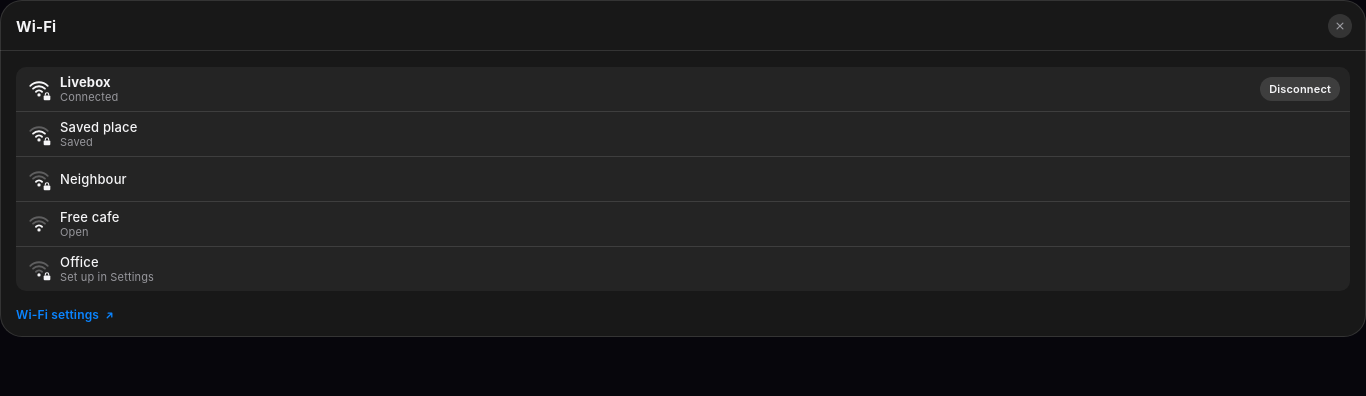
Scenario: a new secured one asks for its password in the row
What coordinates should you click on to do the following:
click the button "Neighbour"
I would click on:
 (93, 179)
Its box is [16, 157, 1350, 201].
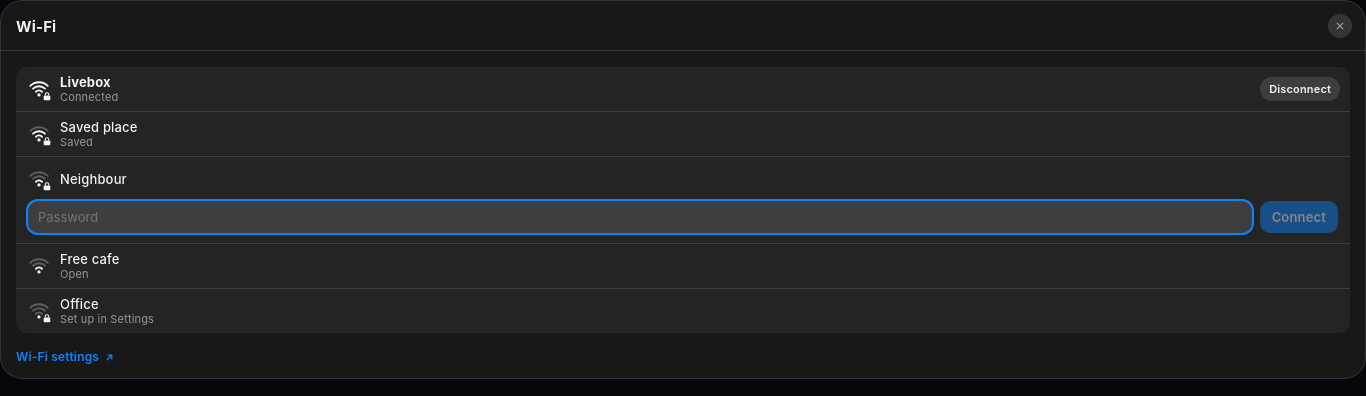
Expected: the password field named "Password for Neighbour" is shown, [28, 201, 1252, 233]
